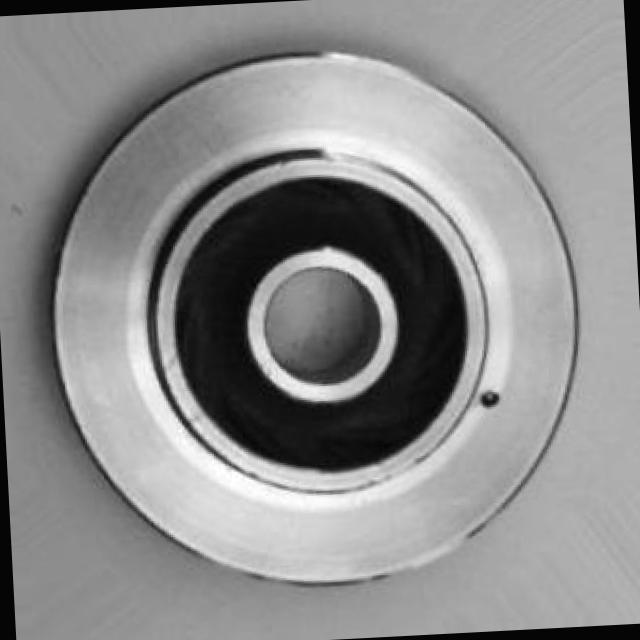Defect: (475, 382, 509, 416)
